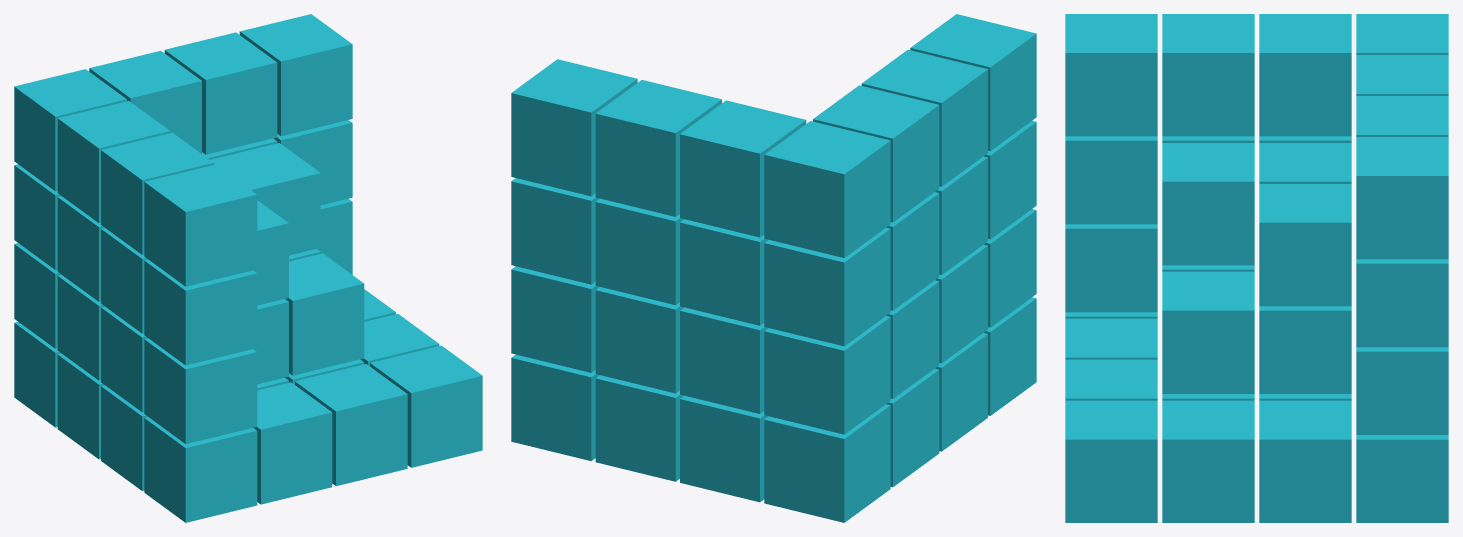
3 renders of one model, left to right at view 1: azimuth 30°, elevation 25°; view 2: azimuth 150°, elevation 25°; view 3: azimuth 270°, elevation 25°, orthographic. The views are drawn at different scales.
Visible parts, largest first — view 1: Blocks_05; view 2: Blocks_05; view 3: Blocks_05.
Boxes of the visible parts, box(x1,y1,x2,y2) form: Blocks_05: box(14, 14, 482, 522); Blocks_05: box(511, 14, 1036, 522); Blocks_05: box(1065, 14, 1448, 522).
Bounding box in the file's own units: 145 × 145 × 145.
1 material, 1 textured.
